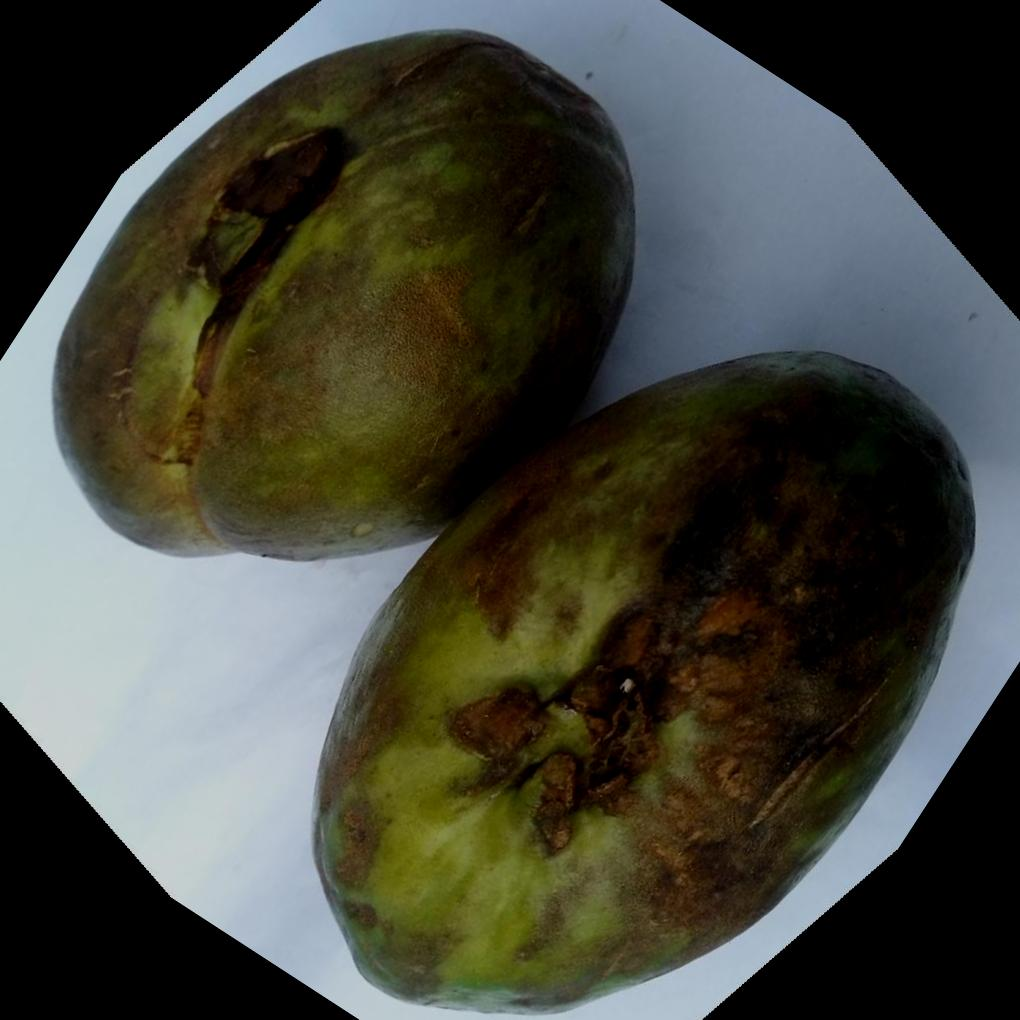FreshOrange: (51, 24, 981, 1013)
